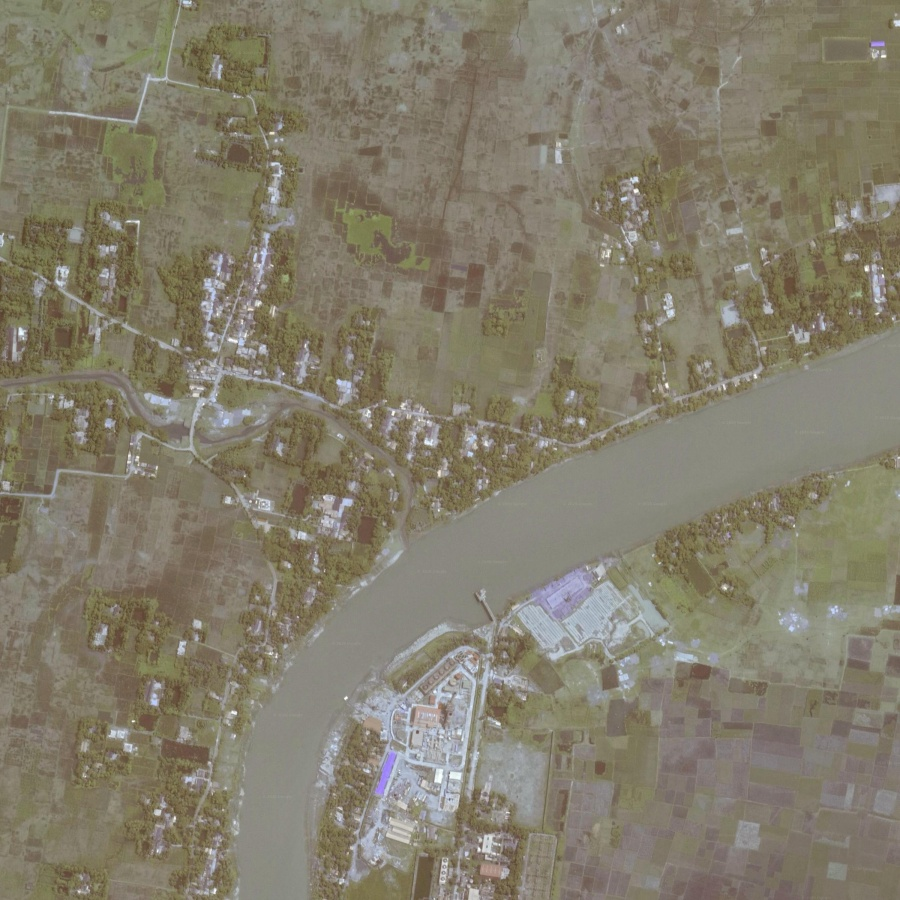PowerPlant: (402, 657, 473, 812)
